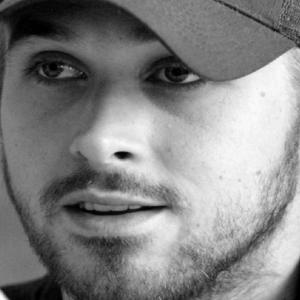Male: (0, 0, 300, 299)
